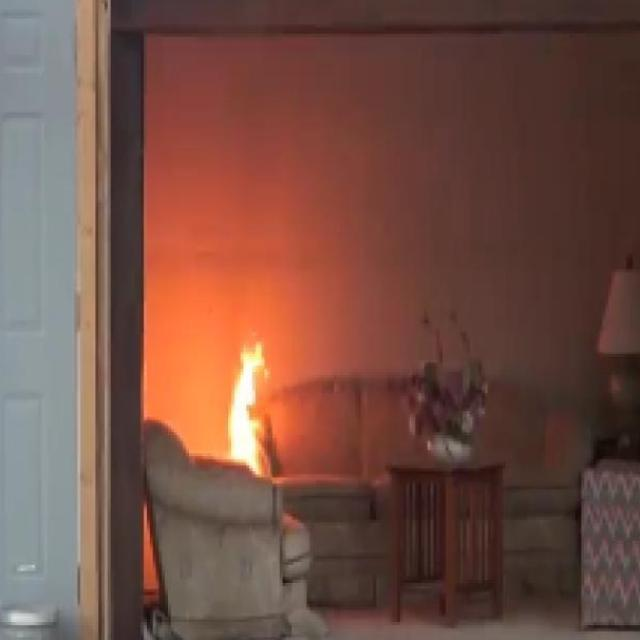smoke: (223, 334, 278, 469)
